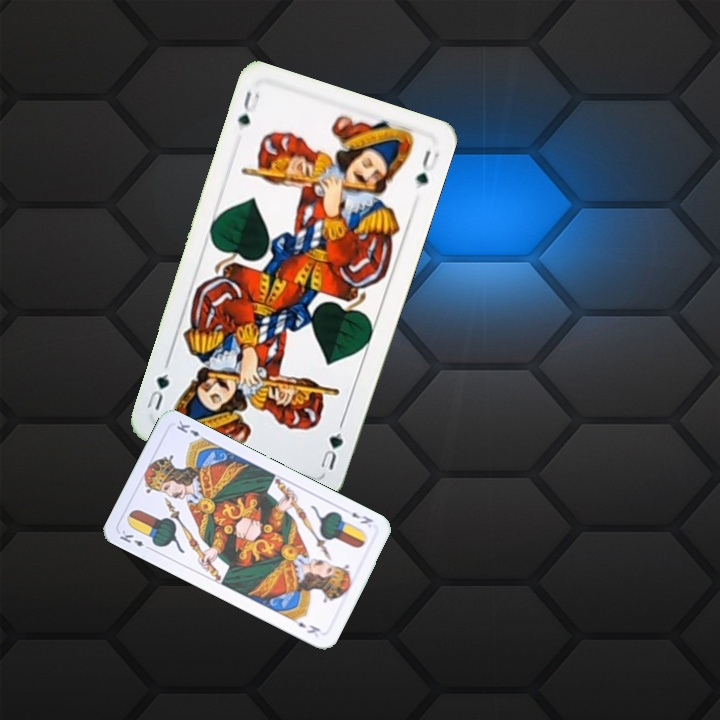EK: (115, 526, 154, 553), (347, 508, 376, 526)
GU: (316, 428, 346, 473), (233, 87, 262, 133)
